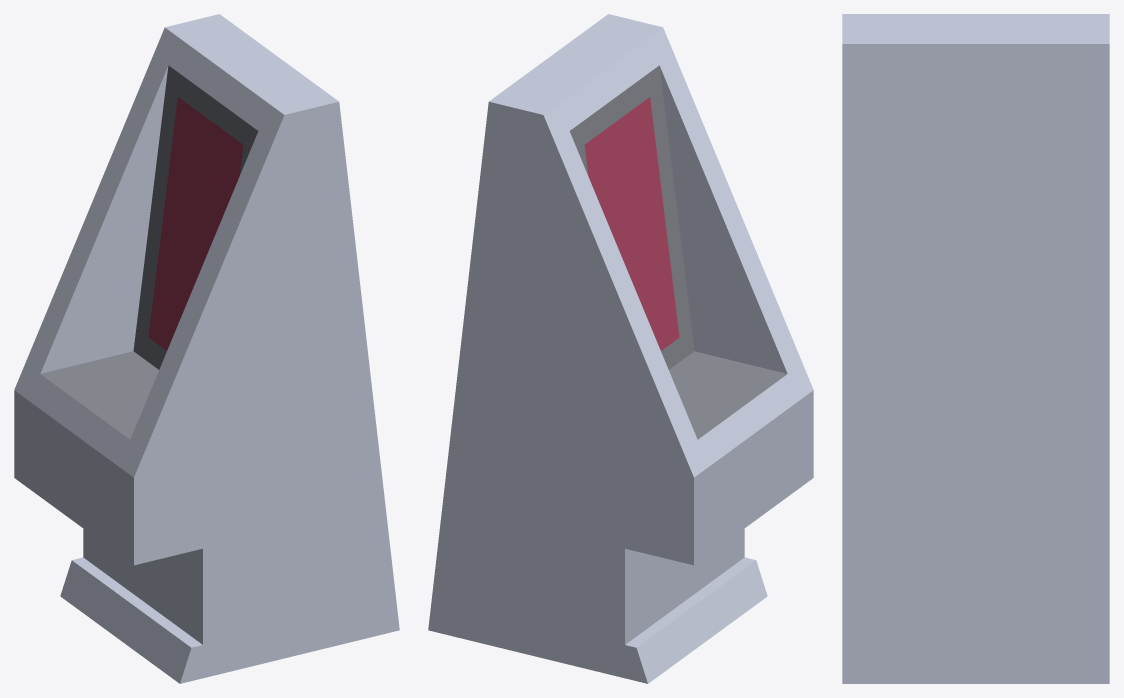
The picture shows the model from 3 angles, left to right: view 1: azimuth 30°, elevation 25°; view 2: azimuth 150°, elevation 25°; view 3: azimuth 270°, elevation 25°; orthographic projection. The views are drawn at different scales.
Parts seen in each view (by area): view 1: object_052; view 2: object_052; view 3: object_052.
Part boxes in pixels (bbox=[...]): object_052: bbox=[14, 14, 399, 683]; object_052: bbox=[428, 14, 813, 683]; object_052: bbox=[842, 14, 1109, 683].
Size of the model in its own units: 0.298 by 0.5821 by 0.2324.
